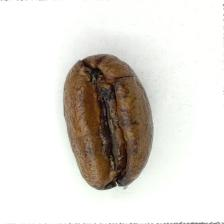NG: (76, 59, 137, 169)
